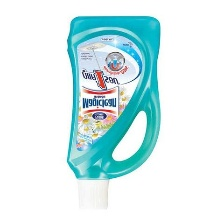cleaning_solution: (64, 14, 163, 213)
